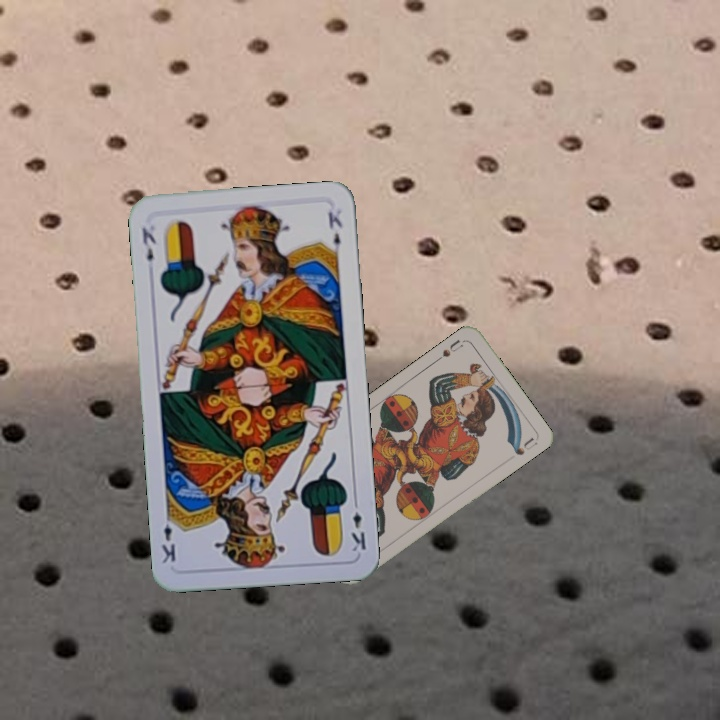EK: (347, 495, 369, 554), (138, 223, 159, 264)
SU: (432, 336, 467, 364)
